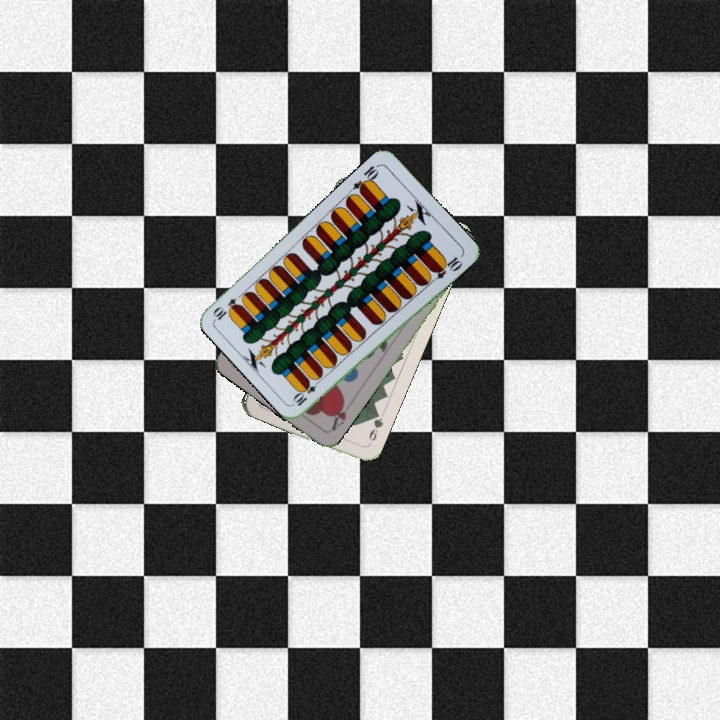E10: (290, 374, 324, 409), (349, 160, 382, 196)
G9: (363, 408, 386, 449)
HA: (327, 395, 349, 434)
